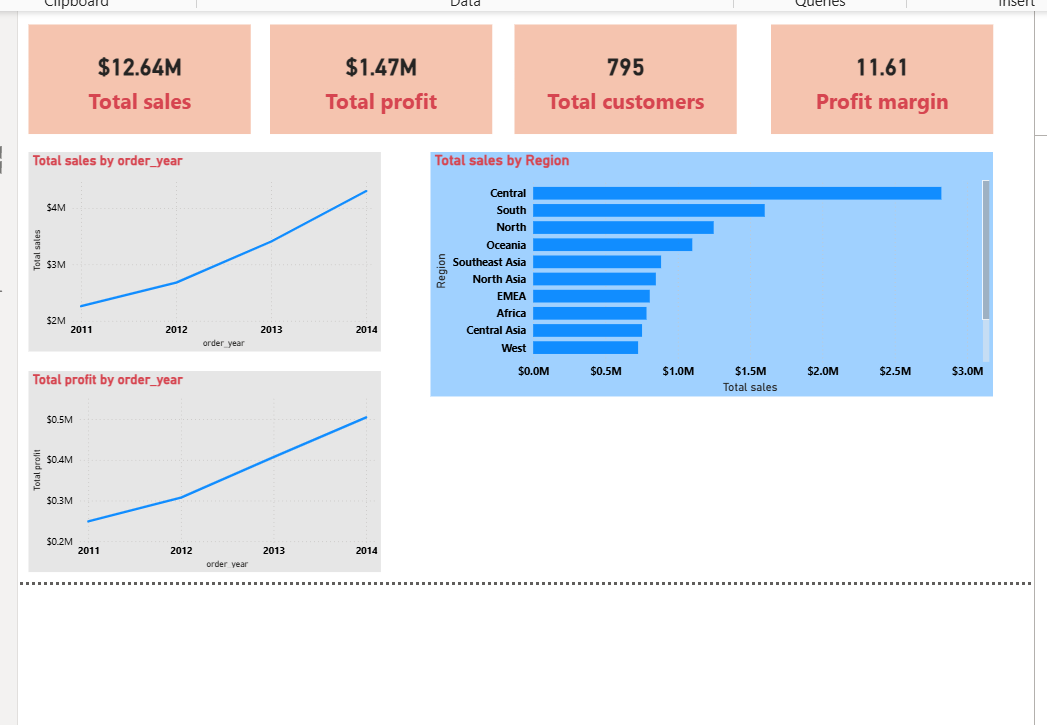

The dashboard page shown, as its layout file describes it:
{"tool":"powerbi","page":{"name":"Overall-report","canvas":[1280,720],"ordinal":0},"visuals":[{"type":"card","fields":{"Values":["superstoredatasql2.Total sales"]},"box":[13.2,17,279.7,138],"z":0},{"type":"card","fields":{"Values":["superstoredatasql2.Total profit"]},"box":[317.5,17,279.7,138],"z":1},{"type":"card","fields":{"Values":["superstoredatasql2.Total customers"]},"box":[625.5,17,279.7,138],"z":2},{"type":"card","fields":{"Values":["superstoredatasql2.Profit margin"]},"box":[948.7,17,279.7,138],"z":3},{"type":"lineChart","fields":{"Category":["superstoredatasql2.order_year"],"Y":["superstoredatasql2.Total sales"]},"box":[13.2,177.6,444.1,251.3],"z":4},{"type":"lineChart","fields":{"Category":["superstoredatasql2.order_year"],"Y":["superstoredatasql2.Total profit"]},"box":[13.2,453.5,444.1,253.2],"z":5},{"type":"clusteredBarChart","fields":{"Category":["superstoredatasql2.Region"],"Y":["superstoredatasql2.Total sales"]},"box":[519.7,177.6,708.7,308],"z":6}]}

Visuals, with their boxes on the page's 1280x720 design canvas (x1, y1, x2, y2). These are canvas units, not pixel positions in the 1047x725 screenshot, which may show the page scaled, cropped or inside an application window:
card - superstoredatasql2.Total sales: rect(13, 17, 293, 155)
card - superstoredatasql2.Total profit: rect(318, 17, 597, 155)
card - superstoredatasql2.Total customers: rect(626, 17, 905, 155)
card - superstoredatasql2.Profit margin: rect(949, 17, 1228, 155)
lineChart - superstoredatasql2.order_year x superstoredatasql2.Total sales: rect(13, 178, 457, 429)
lineChart - superstoredatasql2.order_year x superstoredatasql2.Total profit: rect(13, 454, 457, 707)
clusteredBarChart - superstoredatasql2.Region x superstoredatasql2.Total sales: rect(520, 178, 1228, 486)
